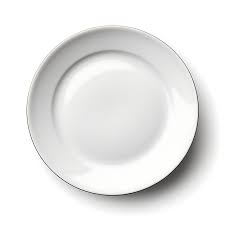Plate: (25, 26, 199, 197)
